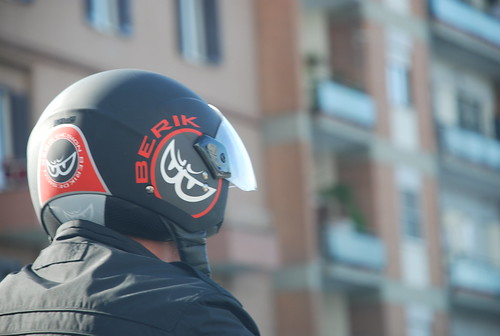helmet: (8, 55, 229, 237)
